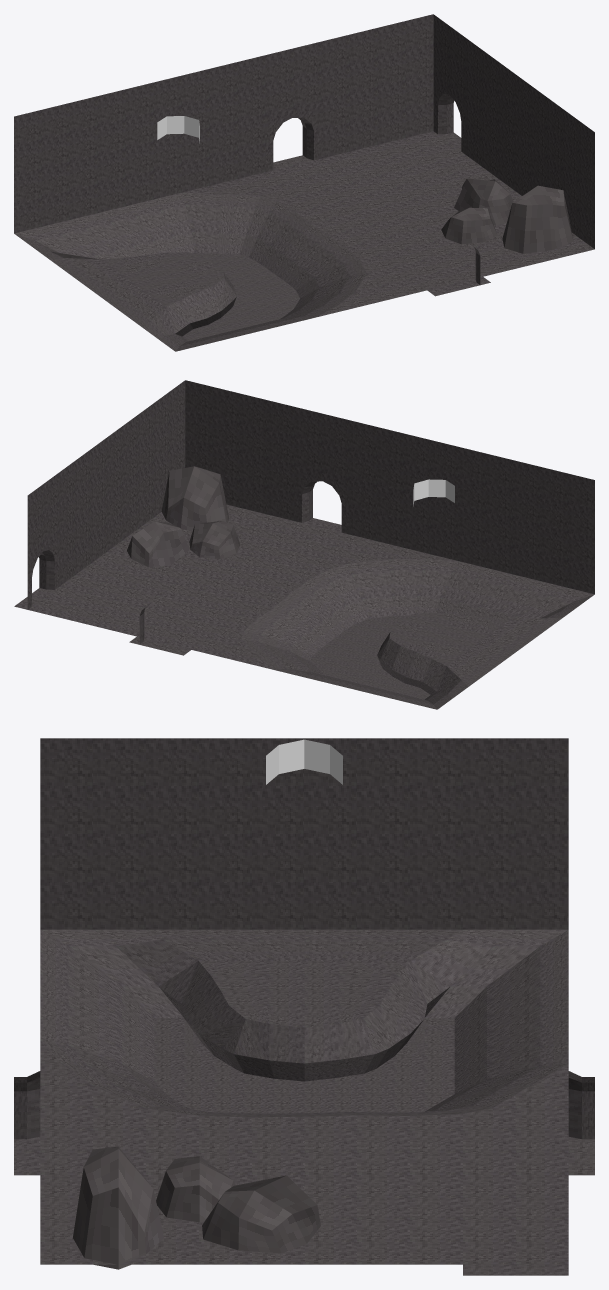
File: Room6.glb
The picture shows the model from 3 angles, top to bottom: view 1: azimuth 30°, elevation 25°; view 2: azimuth 150°, elevation 25°; view 3: azimuth 270°, elevation 25°; orthographic projection. The views are drawn at different scales.
Visible parts, largest first — view 1: Walls.019, Floor.017, pCube4, polySurface214; view 2: Walls.019, Floor.017, pCube4, polySurface214; view 3: Floor.017, Walls.019, pCube4, polySurface214.
Boxes of the visible parts, <box> form: Walls.019: <box>14,14,594,284</box>; Floor.017: <box>14,131,594,351</box>; pCube4: <box>441,178,573,253</box>; polySurface214: <box>157,116,199,143</box>; Walls.019: <box>27,380,594,644</box>; Floor.017: <box>14,504,594,709</box>; pCube4: <box>127,466,240,567</box>; polySurface214: <box>413,479,454,506</box>; Floor.017: <box>14,929,594,1275</box>; Walls.019: <box>14,738,594,1139</box>; pCube4: <box>73,1146,320,1269</box>; polySurface214: <box>266,739,342,784</box>.
Bounding box in the file's own units: 15.5 × 6.03 × 11.
Materials: 2 (2 with a texture image).
